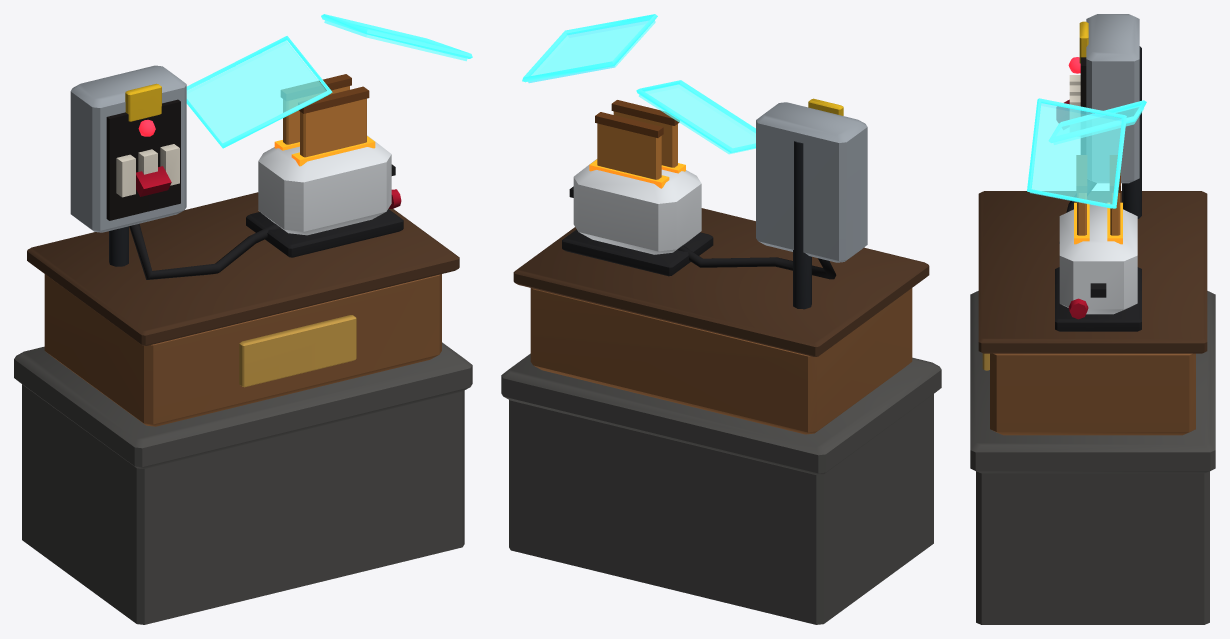
The model's file is prop_fi_toaster_shrine.glb.
3 views of the same model, side by side, from view 1: azimuth 30°, elevation 25°; view 2: azimuth 150°, elevation 25°; view 3: azimuth 270°, elevation 25° (orthographic). The views are drawn at different scales.
Visible parts, largest first — view 1: body; view 2: body; view 3: body.
Boxes of the visible parts, bbox=[...] form: body: bbox=[14, 14, 472, 624]; body: bbox=[501, 14, 941, 624]; body: bbox=[970, 14, 1215, 624].
Bounding box in the file's own units: 3.67 × 4.9 × 2.2.
